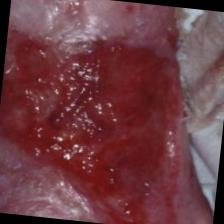wound-ulser: (0, 21, 188, 224)
